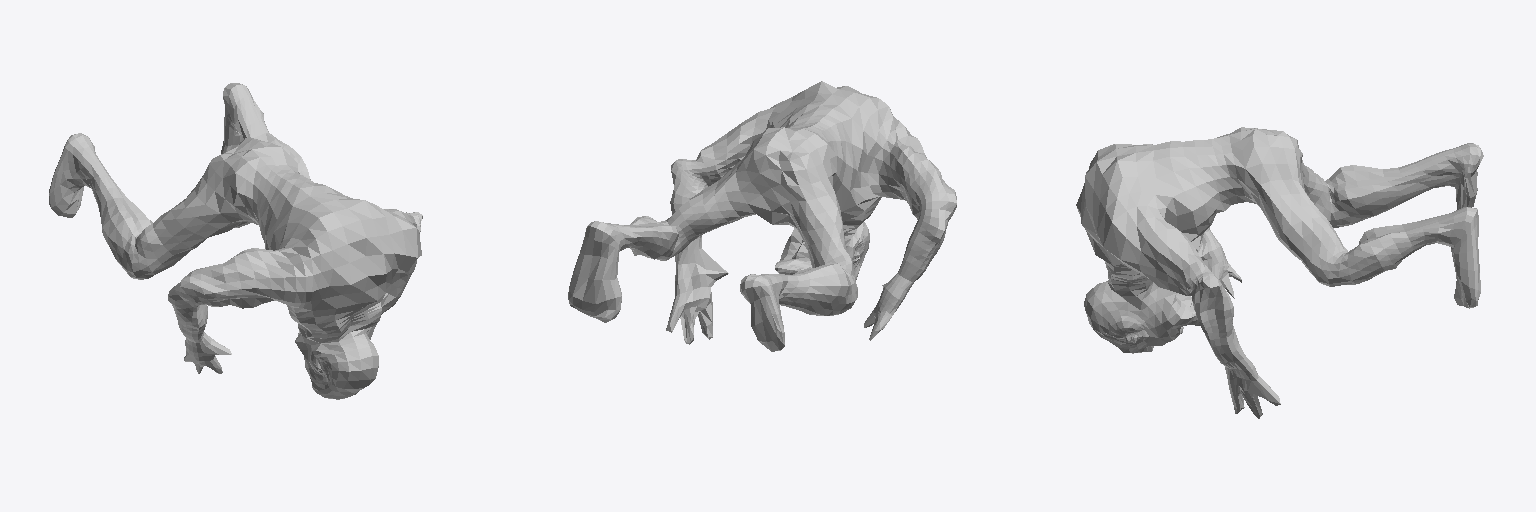
File: bipedatrest.obj
The picture shows the model from 3 angles: view 1: azimuth 30°, elevation 25°; view 2: azimuth 150°, elevation 25°; view 3: azimuth 270°, elevation 25°; orthographic projection.
Visible parts, largest first — view 1: LOWPOLY; view 2: LOWPOLY; view 3: LOWPOLY.
Part boxes in pixels (x1,y1,x2,y2): LOWPOLY: (49,83,422,399); LOWPOLY: (568,81,956,351); LOWPOLY: (1076,127,1483,418).
Bounding box in the file's own units: 28.72 × 24.79 × 38.29.